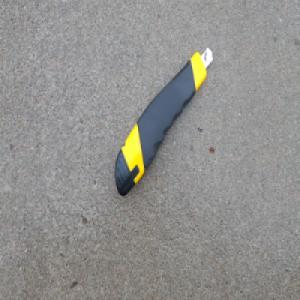Cutter: (114, 45, 213, 198)
